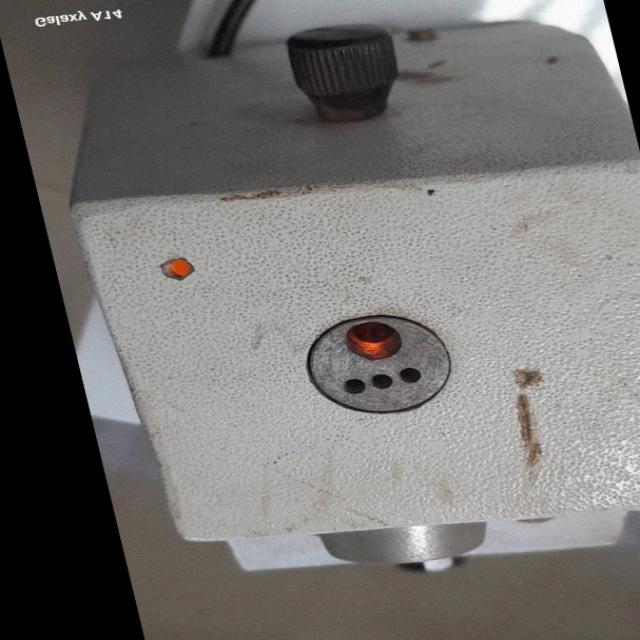Melting Point Apparatus: (31, 0, 640, 601)
